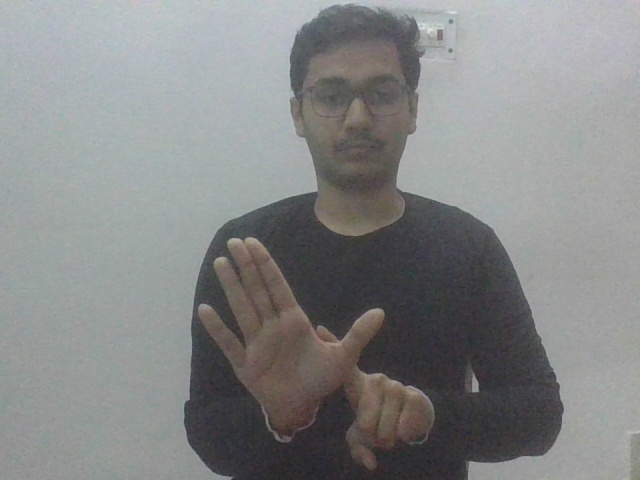Y: (199, 234, 435, 471)
